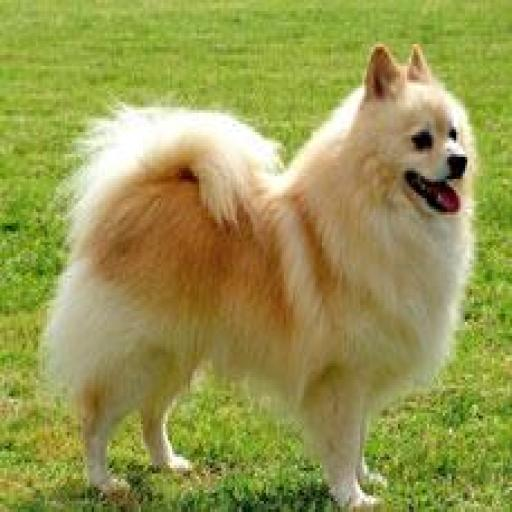dog_face: (355, 47, 474, 212)
